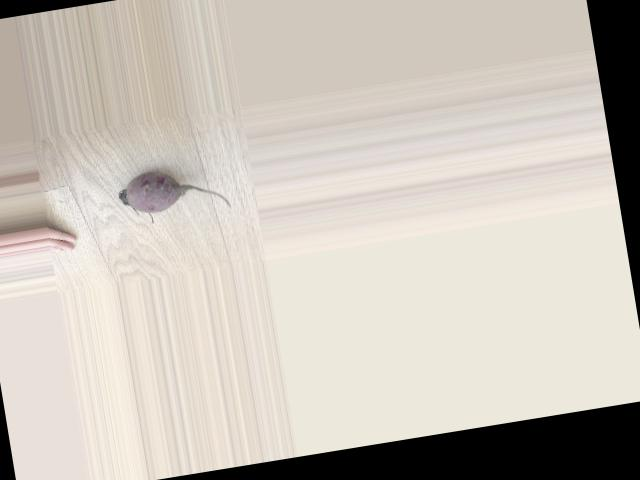beet: (116, 160, 232, 227)
